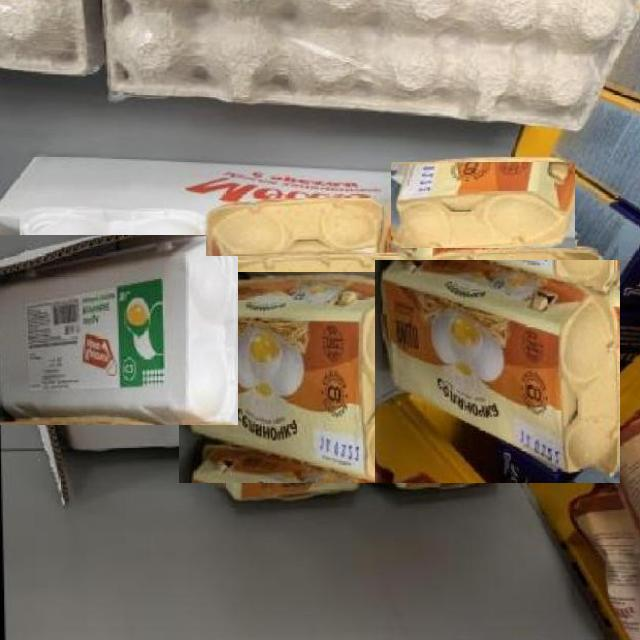Egg: (374, 261, 620, 483), (179, 272, 427, 483), (0, 235, 238, 425), (390, 161, 575, 248), (207, 195, 380, 256)
